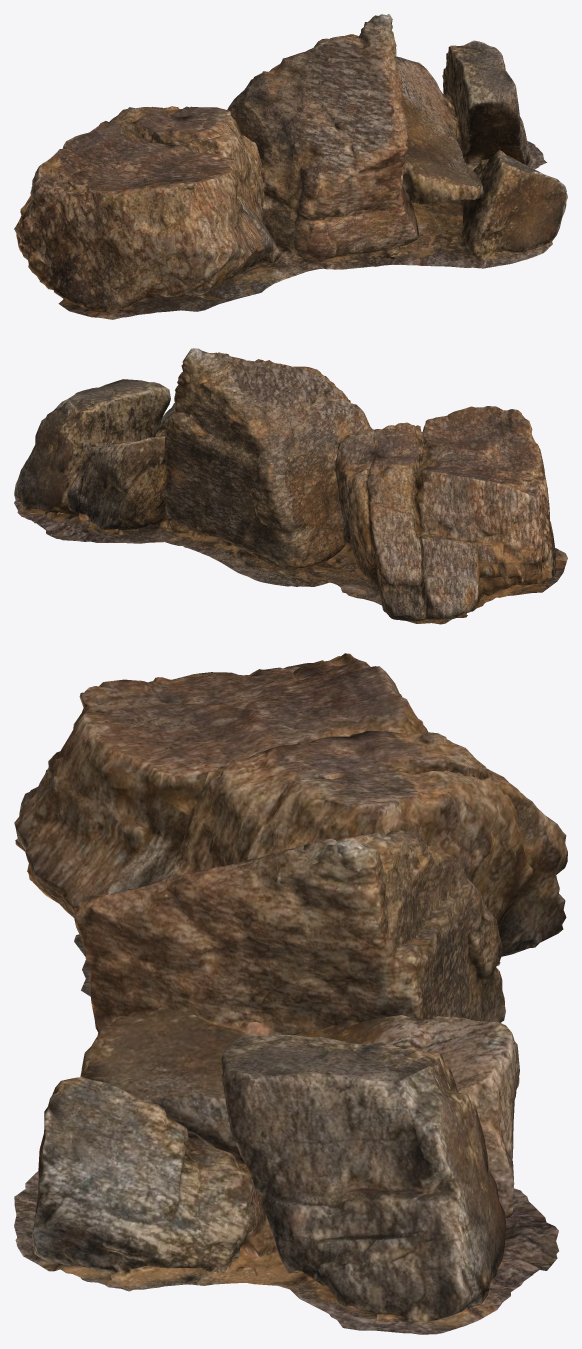
File: namaqualand_boulder_02.glb
3 renders of one model, top to bottom at view 1: azimuth 30°, elevation 25°; view 2: azimuth 150°, elevation 25°; view 3: azimuth 270°, elevation 25°, orthographic. The views are drawn at different scales.
Parts seen in each view (by area): view 1: boulder_02; view 2: boulder_02; view 3: boulder_02.
Boxes of the visible parts, x1=… form: boulder_02: x1=14, y1=14, x2=567, y2=319; boulder_02: x1=14, y1=348, x2=567, y2=624; boulder_02: x1=14, y1=653, x2=567, y2=1334.
Size of the model in its own units: 2.53 by 0.8826 by 1.23.
Materials: 1 (1 with a texture image).
